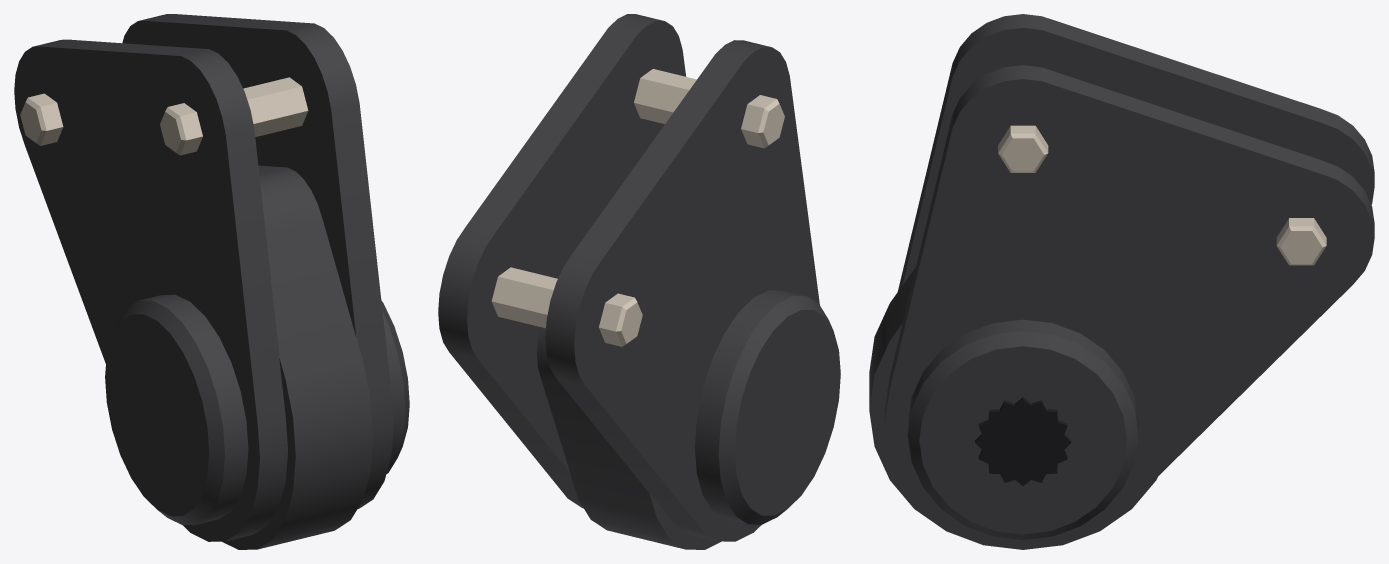
Rendered from SM_Susp_FL_Rocker.fbx.
3 views of the same model, side by side, from view 1: azimuth 30°, elevation 25°; view 2: azimuth 150°, elevation 25°; view 3: azimuth 270°, elevation 25° (orthographic). The views are drawn at different scales.
Parts seen in each view (by area): view 1: Export_Susp_FL_Rocker; view 2: Export_Susp_FL_Rocker; view 3: Export_Susp_FL_Rocker.
Part boxes in pixels (x1=…): Export_Susp_FL_Rocker: x1=14, y1=14, x2=409, y2=549; Export_Susp_FL_Rocker: x1=438, y1=14, x2=840, y2=549; Export_Susp_FL_Rocker: x1=869, y1=14, x2=1374, y2=549.
Bounding box in the file's own units: 0.1314 × 0.0615 × 0.139.
